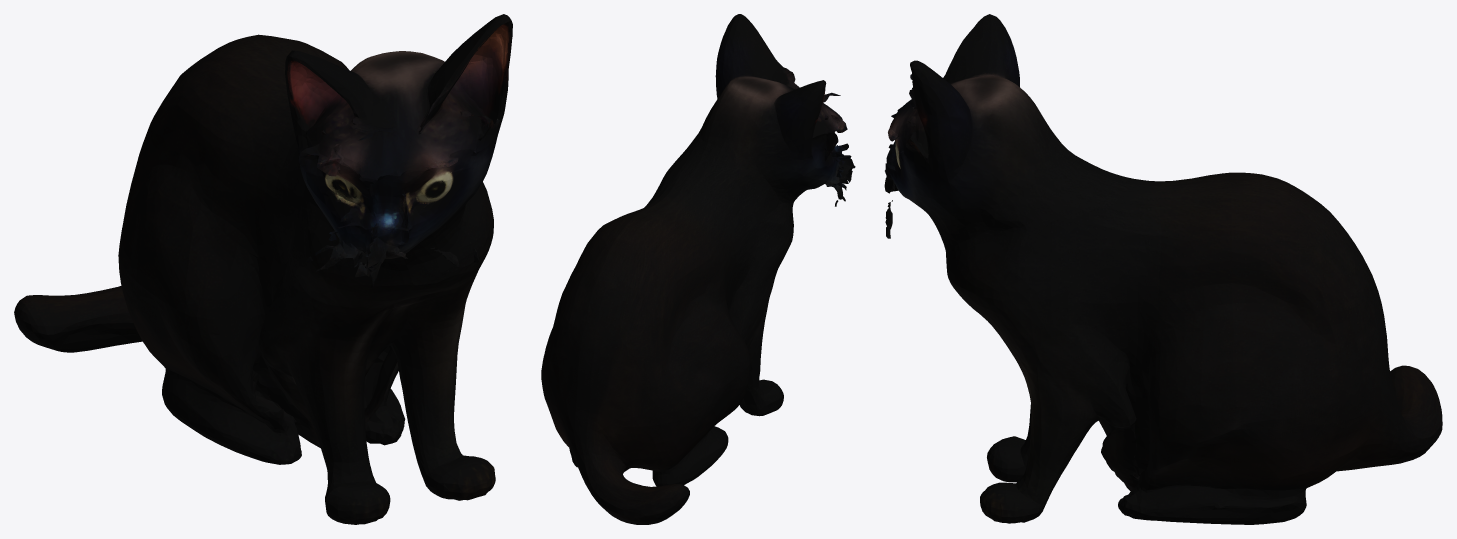
The picture shows the model from 3 angles, left to right: view 1: azimuth 30°, elevation 25°; view 2: azimuth 150°, elevation 25°; view 3: azimuth 270°, elevation 25°; orthographic projection. The views are drawn at different scales.
Visible parts, largest first — view 1: world; view 2: world; view 3: world.
Boxes of the visible parts, bbox=[...] form: world: bbox=[14, 14, 512, 524]; world: bbox=[541, 14, 855, 524]; world: bbox=[884, 14, 1442, 524].
Bounding box in the file's own units: 0.5126 × 0.8893 × 0.997.
1 material, 1 textured.
